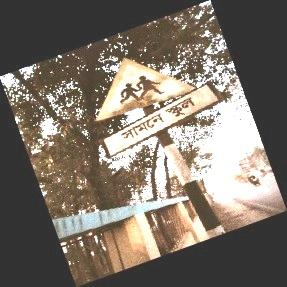School-in-front: (94, 57, 217, 162)
